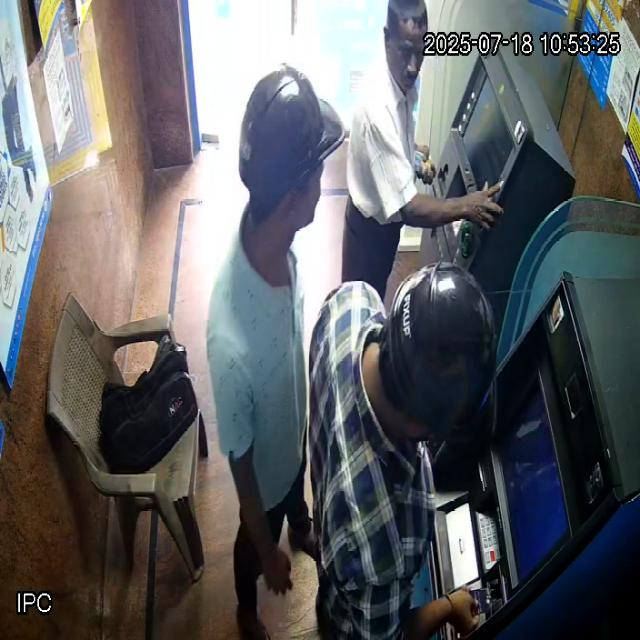helmet: (360, 259, 496, 441), (236, 67, 345, 286)
no_helmet: (383, 0, 429, 90)
